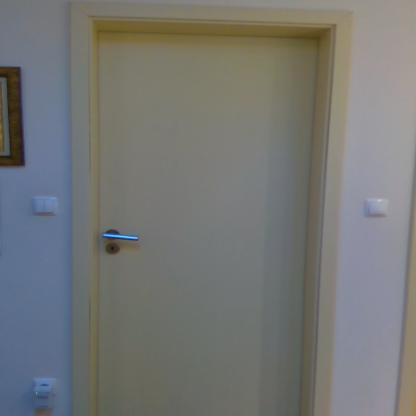door: (93, 28, 308, 416)
lever: (100, 229, 144, 245)
